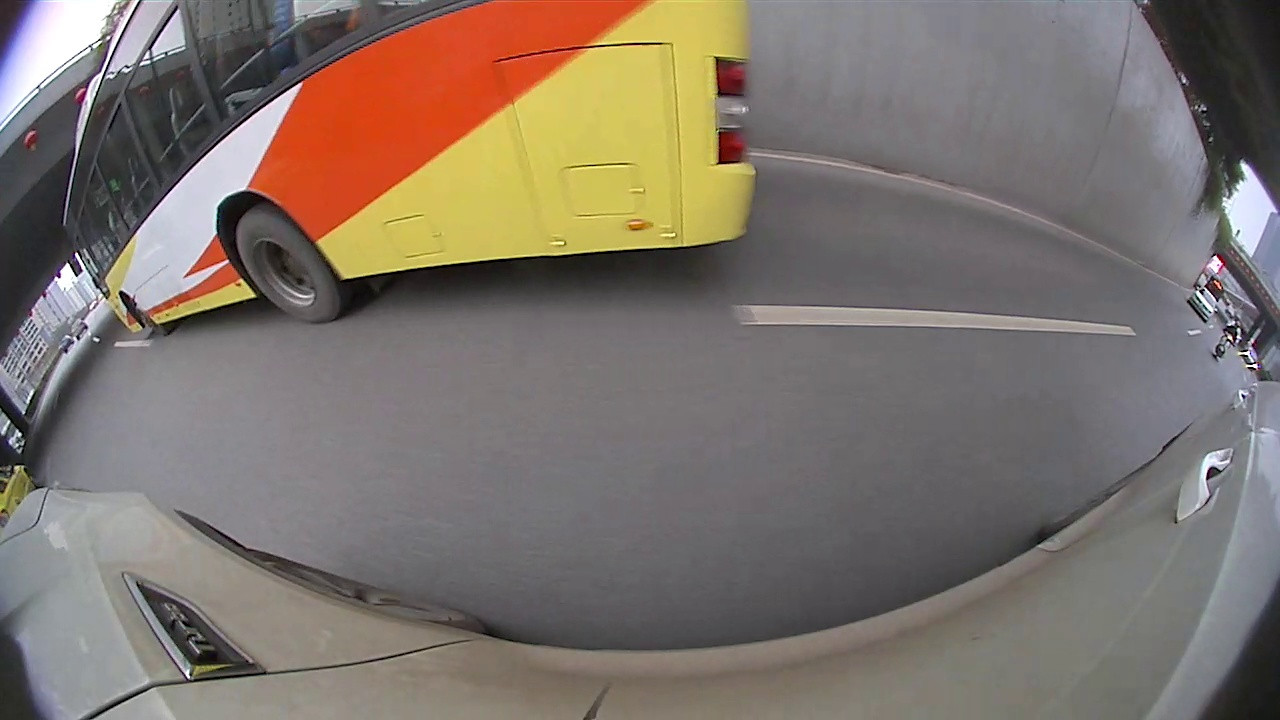bus: (65, 0, 761, 340)
car: (0, 463, 36, 527), (1189, 286, 1217, 321)
front: (123, 294, 171, 341)
rear: (235, 202, 341, 327)
rider: (1213, 322, 1241, 357)
